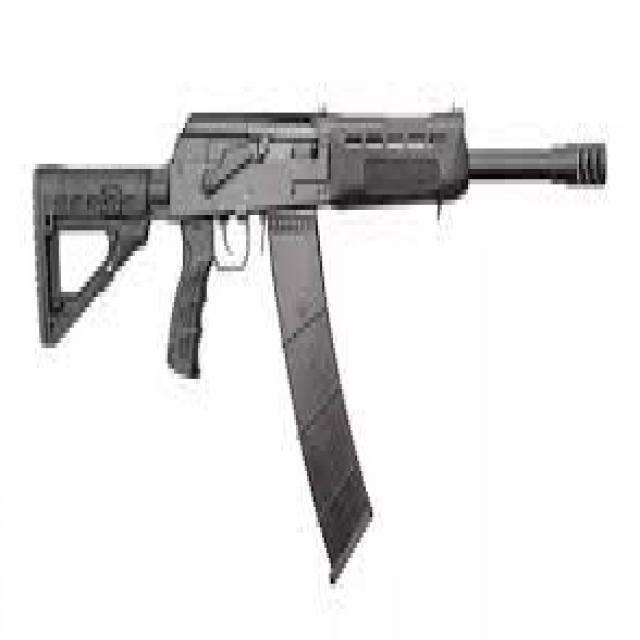rifle: (27, 81, 616, 590)
